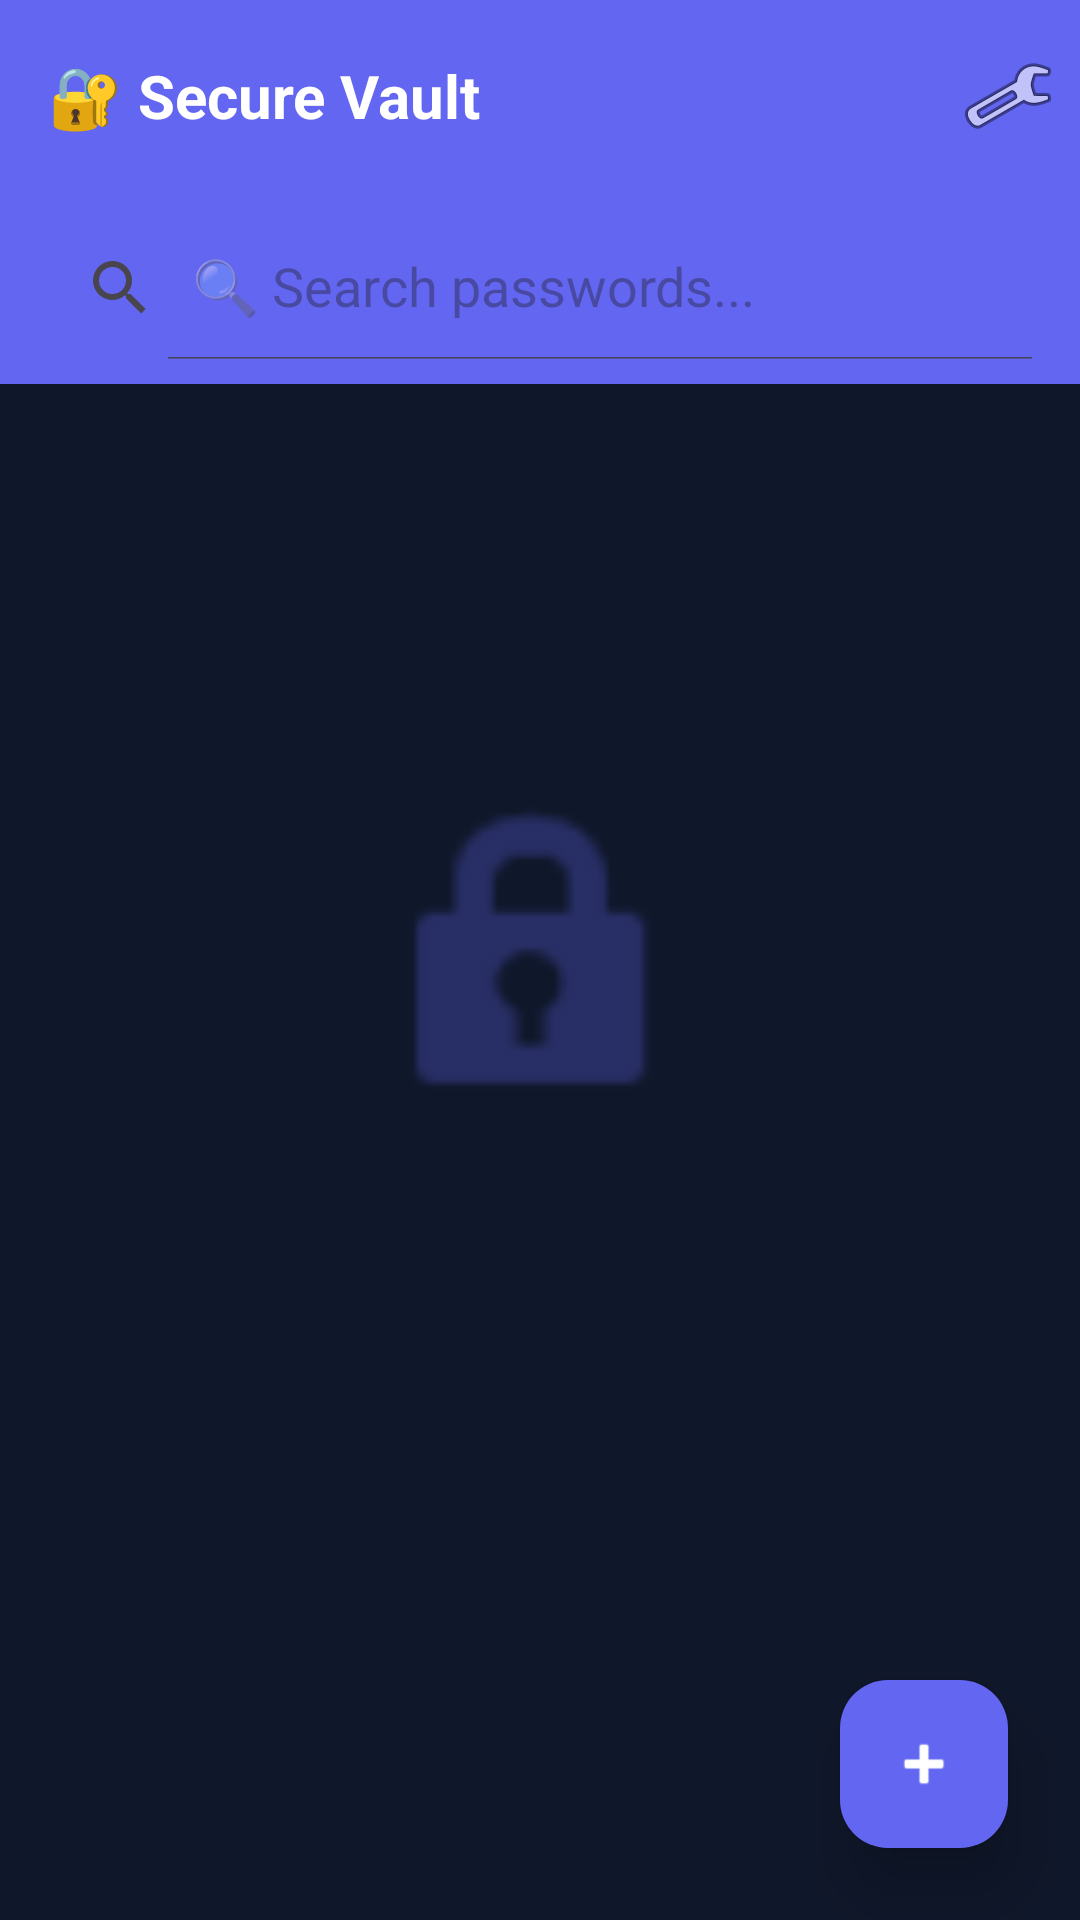

Named icons in this screenshot (1080px x 1920px) and their bounding boxes, bbox(x1, y1, x2, y2):
Add password: bbox(840, 1680, 1008, 1848)
lock idle: bbox(416, 815, 644, 1084)
